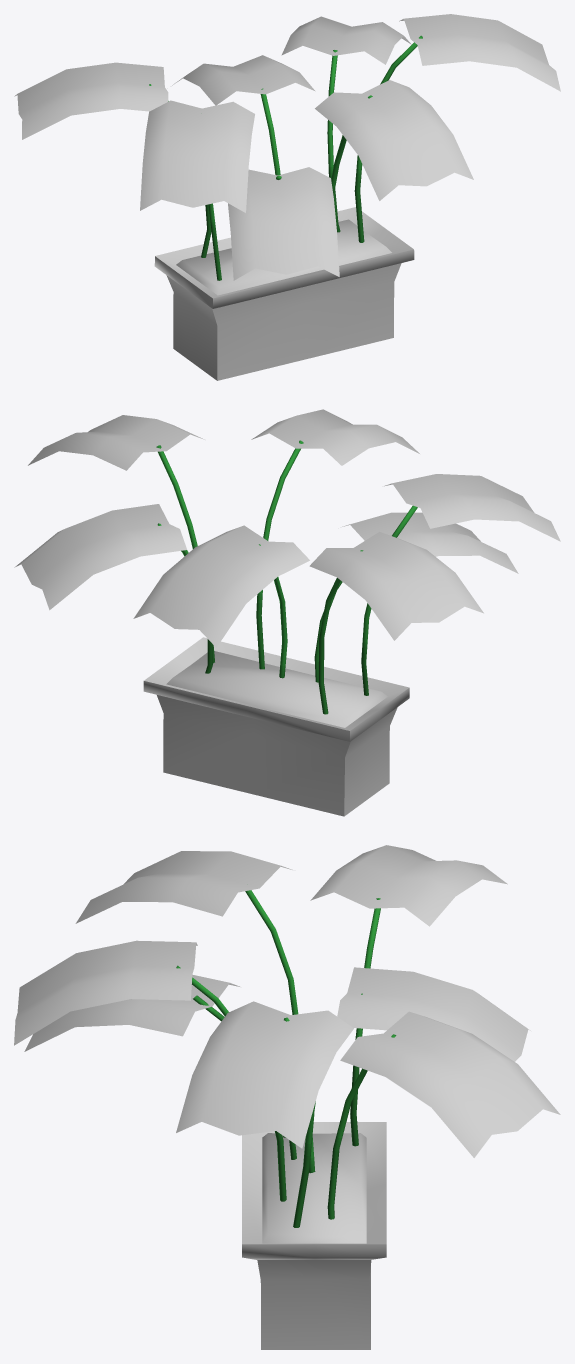
The model's file is Prop_Planta_Maceta1.fbx.
The picture shows the model from 3 angles, top to bottom: view 1: azimuth 30°, elevation 25°; view 2: azimuth 150°, elevation 25°; view 3: azimuth 270°, elevation 25°; orthographic projection. The views are drawn at different scales.
Parts seen in each view (by area): view 1: Prop_Maceta_Cuadrada; view 2: Prop_Maceta_Cuadrada; view 3: Prop_Maceta_Cuadrada.
Part boxes in pixels (x1=…): Prop_Maceta_Cuadrada: x1=14, y1=14, x2=560, y2=380; Prop_Maceta_Cuadrada: x1=14, y1=409, x2=560, y2=816; Prop_Maceta_Cuadrada: x1=14, y1=845, x2=560, y2=1349.
Size of the model in its own units: 2.82 by 1.63 by 2.23.
